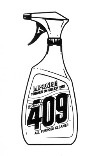grozi_41: (20, 12, 77, 144)
